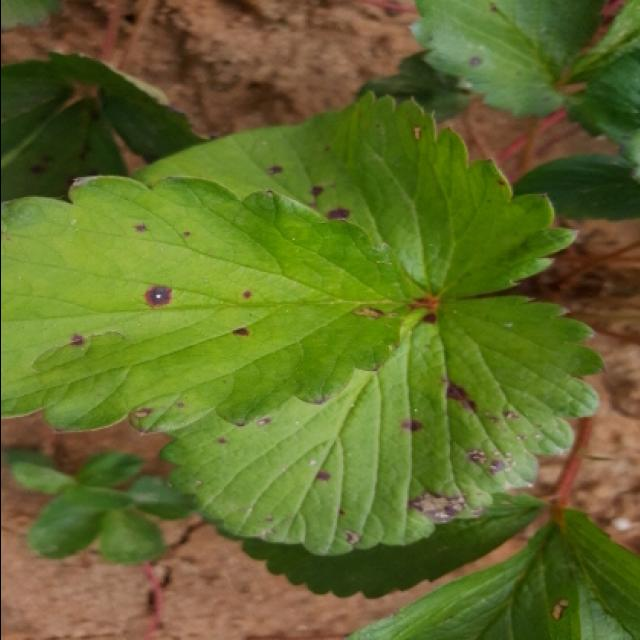Leaf Spot: (155, 293, 608, 557), (2, 174, 437, 439), (132, 88, 578, 301), (407, 2, 603, 118)
